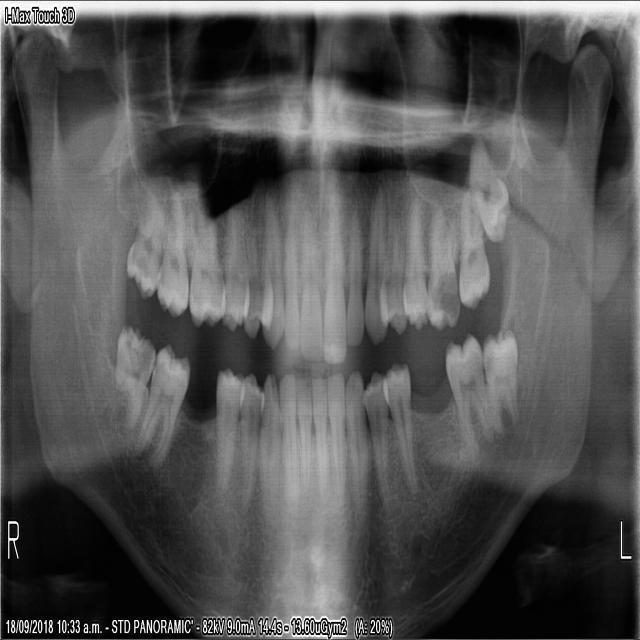LCD: (360, 370, 386, 514)
LCU: (360, 180, 386, 345)
LID: (343, 368, 365, 527), (325, 372, 342, 512)
LIU: (320, 196, 345, 364), (343, 201, 362, 346)
LMU: (424, 199, 457, 329), (466, 137, 507, 241), (457, 186, 488, 308)
LPMD: (380, 361, 414, 493)
LPMU: (376, 179, 407, 335), (398, 184, 427, 330)
RCD: (257, 370, 280, 529)
RCU: (258, 191, 282, 353)
RID: (276, 365, 294, 506), (293, 377, 309, 494)
RIU: (297, 198, 320, 362), (279, 188, 298, 353)
RMD: (136, 342, 187, 468), (443, 332, 490, 454), (110, 319, 155, 428), (481, 324, 516, 430)
RMU: (185, 202, 226, 329), (123, 190, 165, 301), (154, 188, 187, 317), (309, 374, 325, 493)
RPMD: (212, 363, 242, 487), (237, 369, 262, 516)
RPMU: (239, 185, 272, 340), (217, 199, 250, 333)
